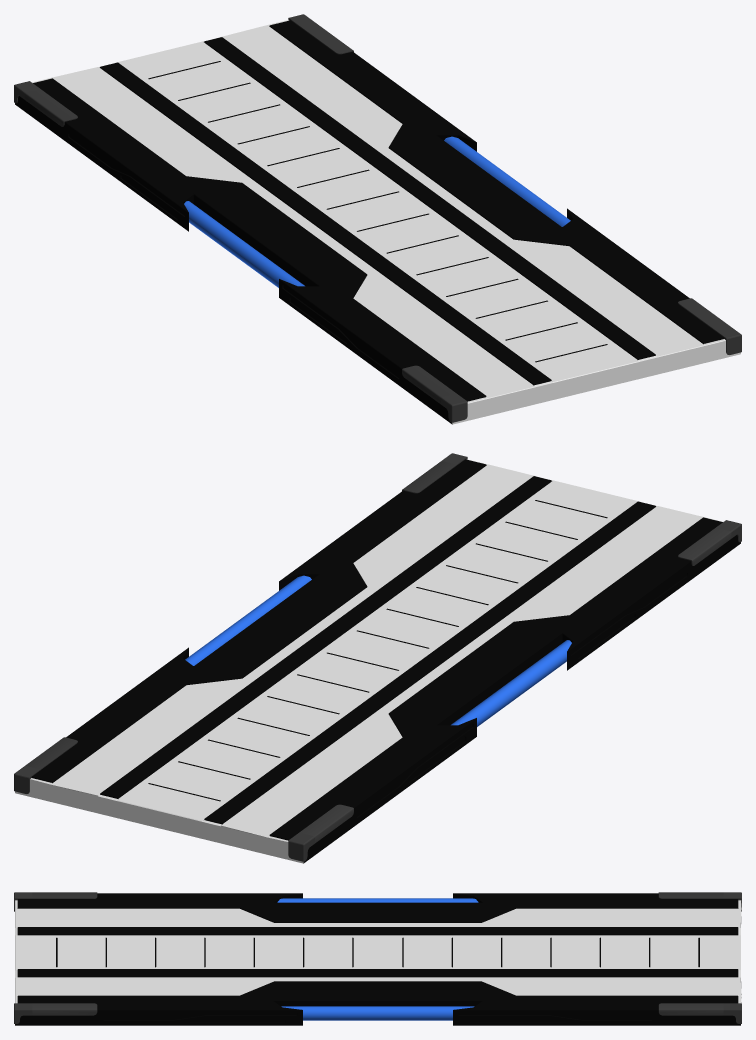
The model's file is Plateforme.fbx.
3 renders of one model, top to bottom at view 1: azimuth 30°, elevation 25°; view 2: azimuth 150°, elevation 25°; view 3: azimuth 270°, elevation 25°, orthographic. The views are drawn at different scales.
Parts seen in each view (by area): view 1: Plateforme; view 2: Plateforme; view 3: Plateforme.
Boxes of the visible parts, x1,y1,x2,y2 form: Plateforme: [14, 14, 741, 424]; Plateforme: [14, 453, 741, 863]; Plateforme: [14, 892, 741, 1025].
Bounding box in the file's own units: 403 × 26.28 × 1053.
